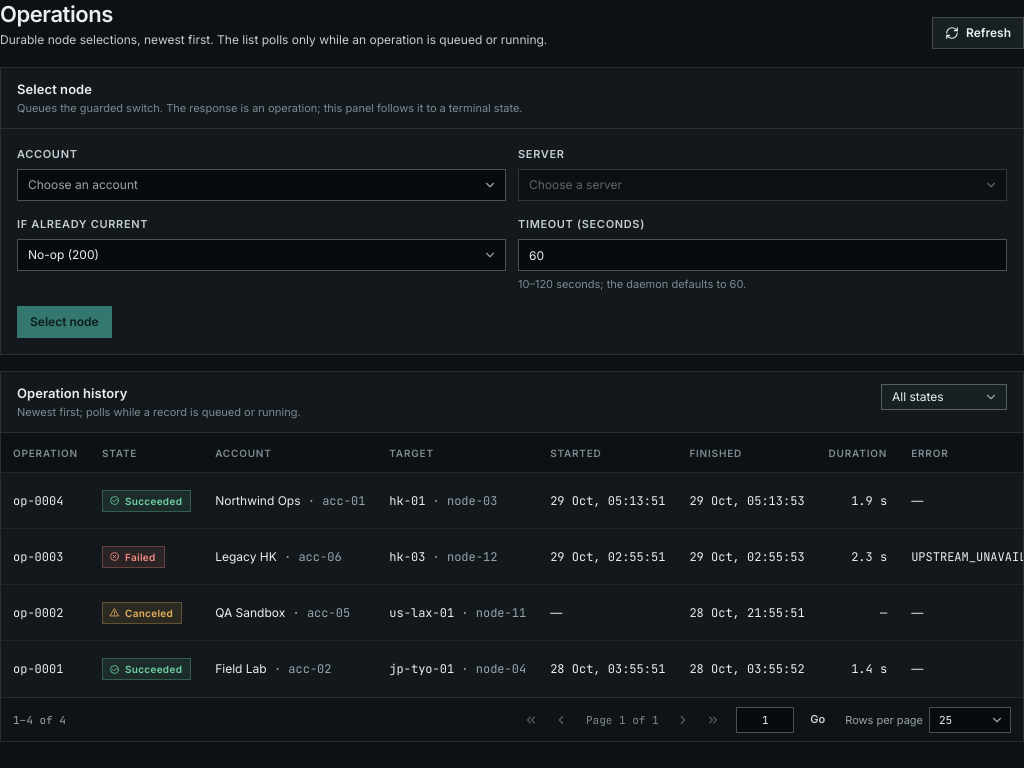
operations page › queues a select-node request and follows the operation to a terminal state
Check: the heading "Operations" is shown, box [0, 0, 113, 28]
Click the button "Choose an account": click(83, 184) [17, 169, 506, 201]
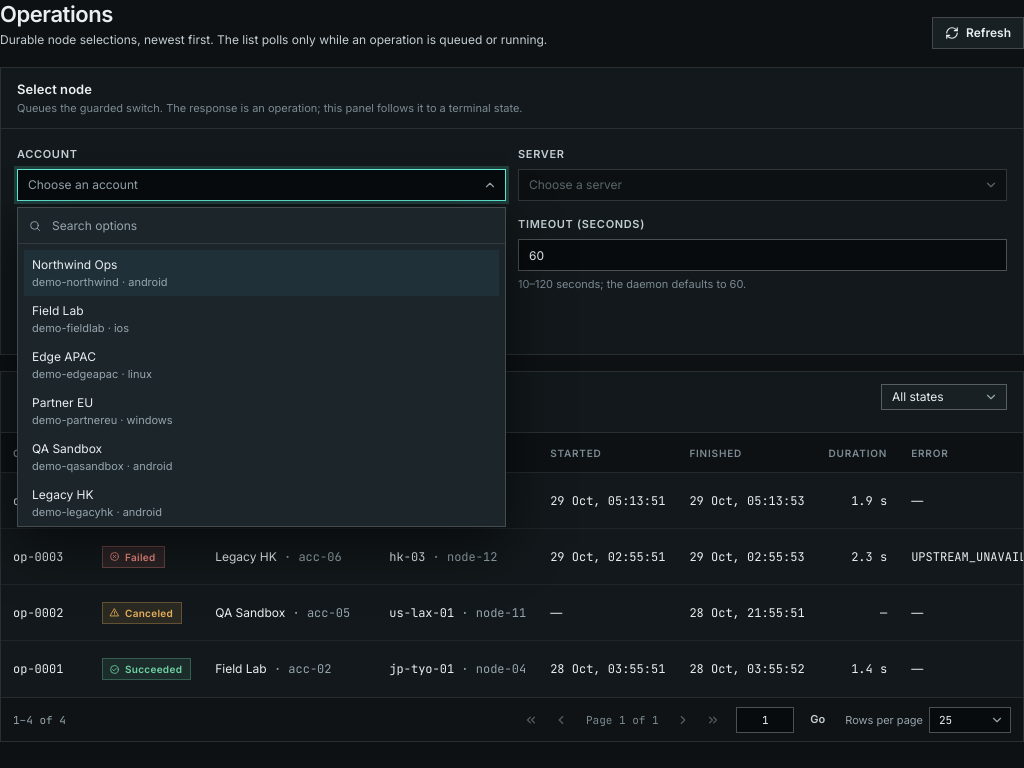
Check: the list named "Account" is shown, box [18, 244, 505, 526]
Click the option "Northwind Ops demo-northwind · android": click(75, 264) [24, 250, 499, 296]
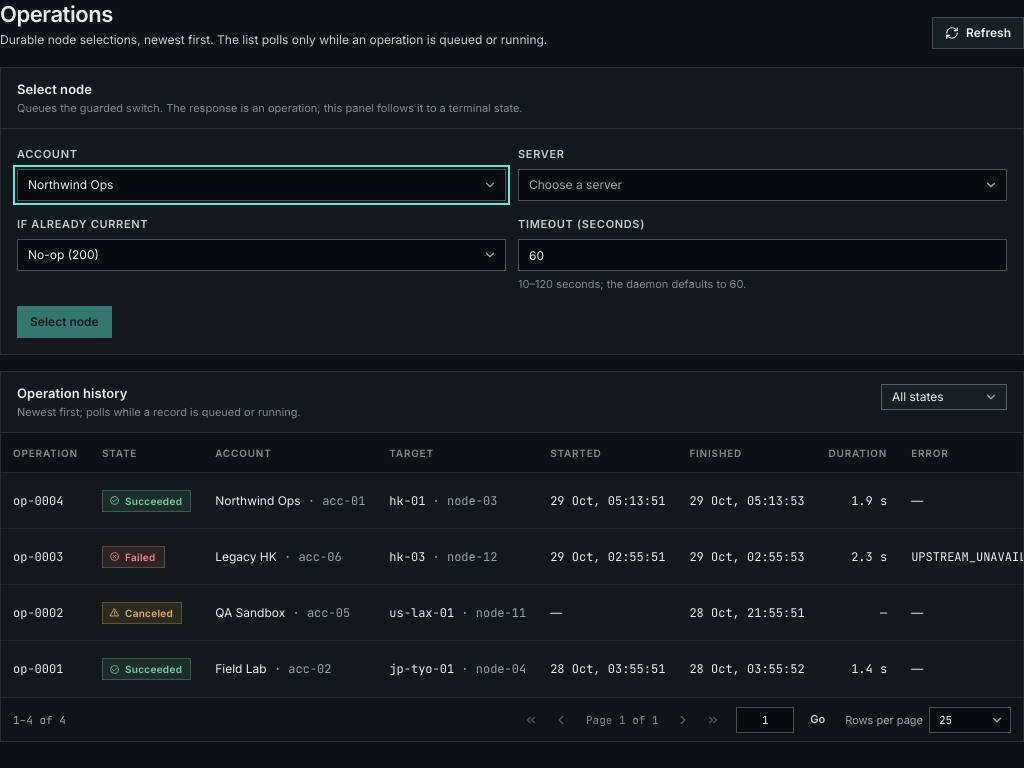
Check: the button "Choose a server" is enabled
Click the button "Choose a server": click(576, 184) [518, 169, 1007, 201]
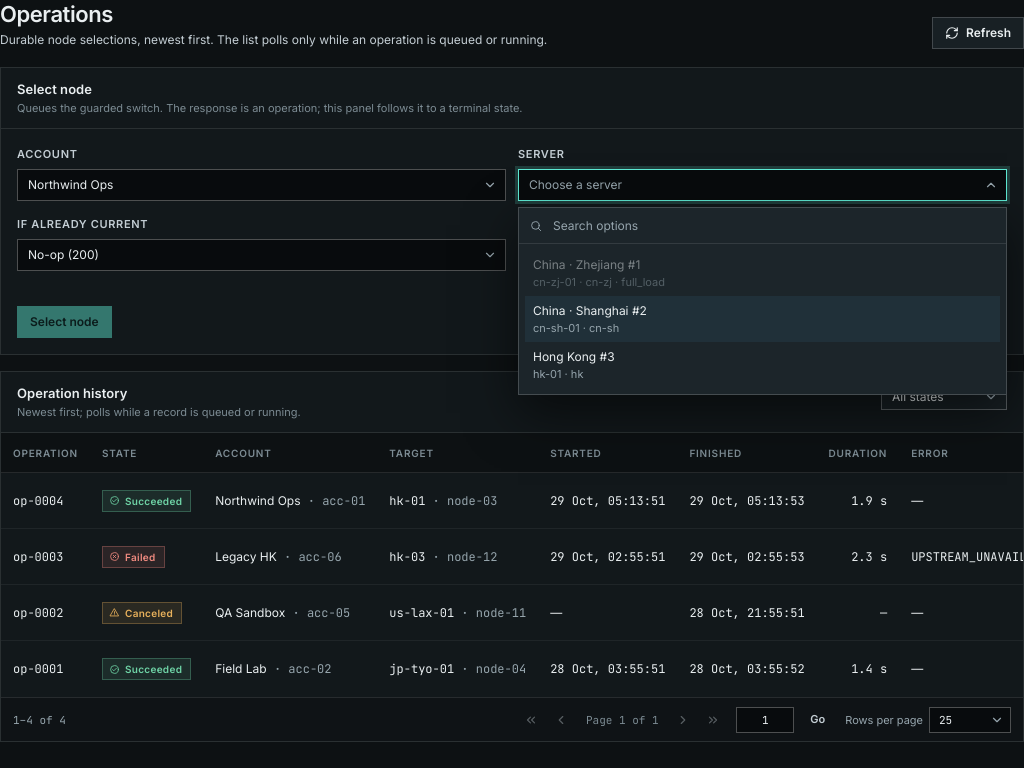
Check: the list named "Server" is shown, box [519, 244, 1006, 394]
Click the option "Hong Kong #3 hk-01 · hk": click(574, 365) [533, 349, 615, 381]
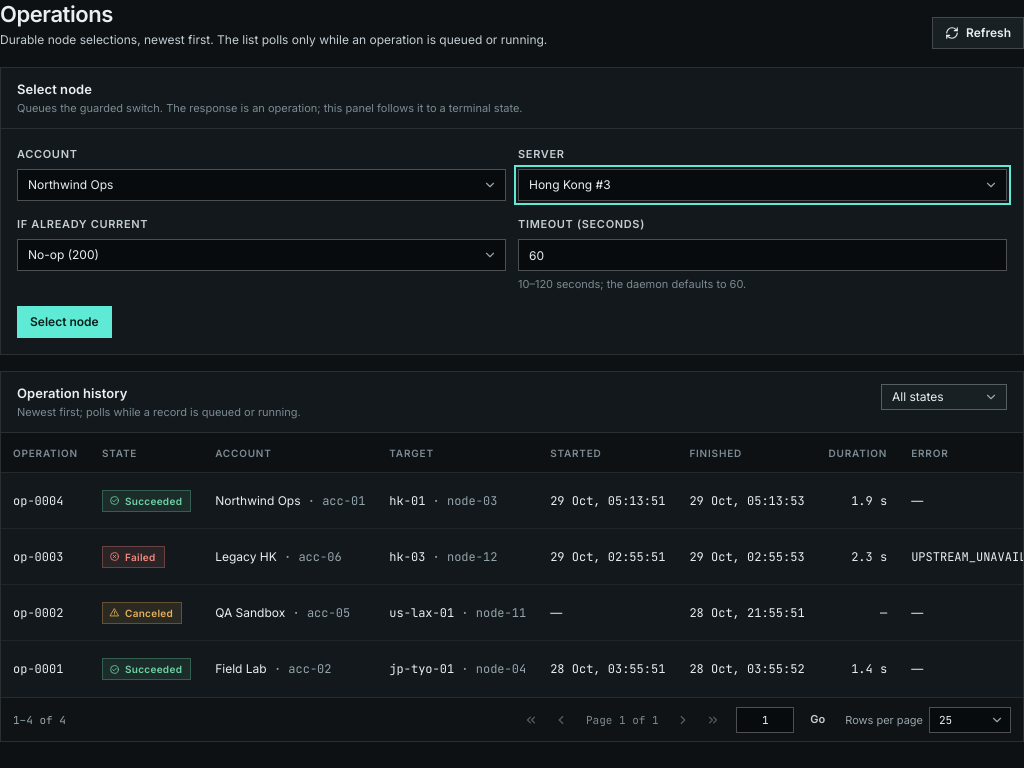
Click the button "Select node": click(64, 322) [17, 306, 112, 338]
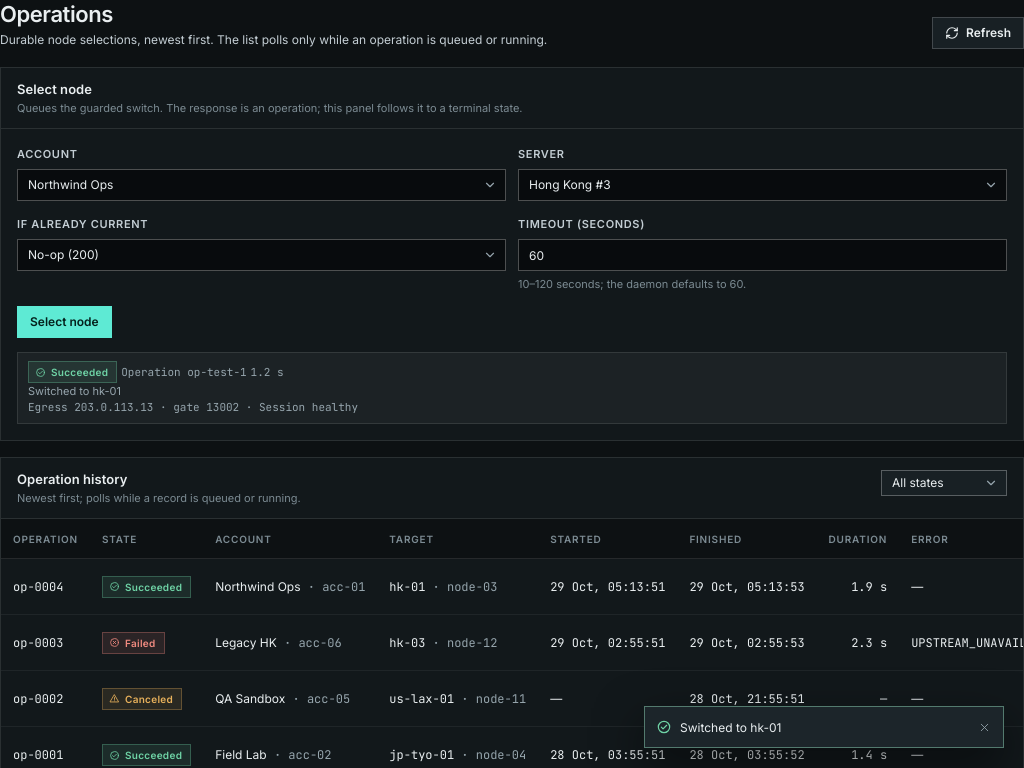
Check: the text "Operation op-test-1" is shown, box [121, 364, 247, 380]
Check: the text "Switched to hk-01" below "Operation op-test-1" is shown, box [28, 384, 121, 398]
Check: the text "Egress 203.0.113.13 · gate 13002 · Session healthy" is shown, box [28, 400, 358, 414]
